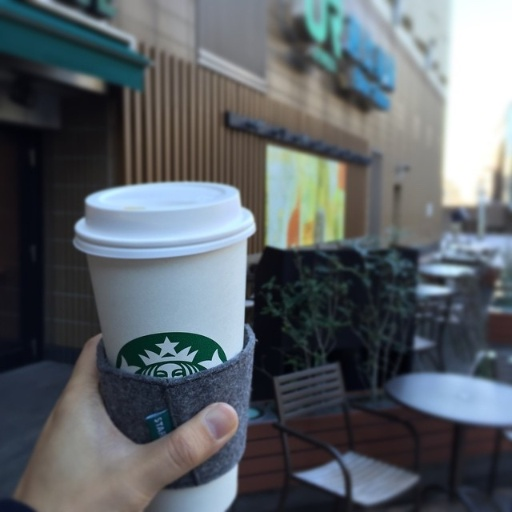hand: (12, 367, 246, 512)
